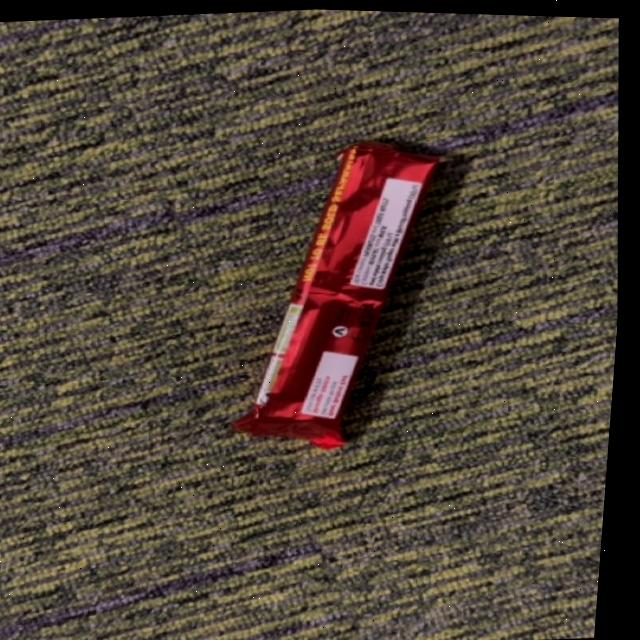chocolate: (202, 114, 498, 465)
